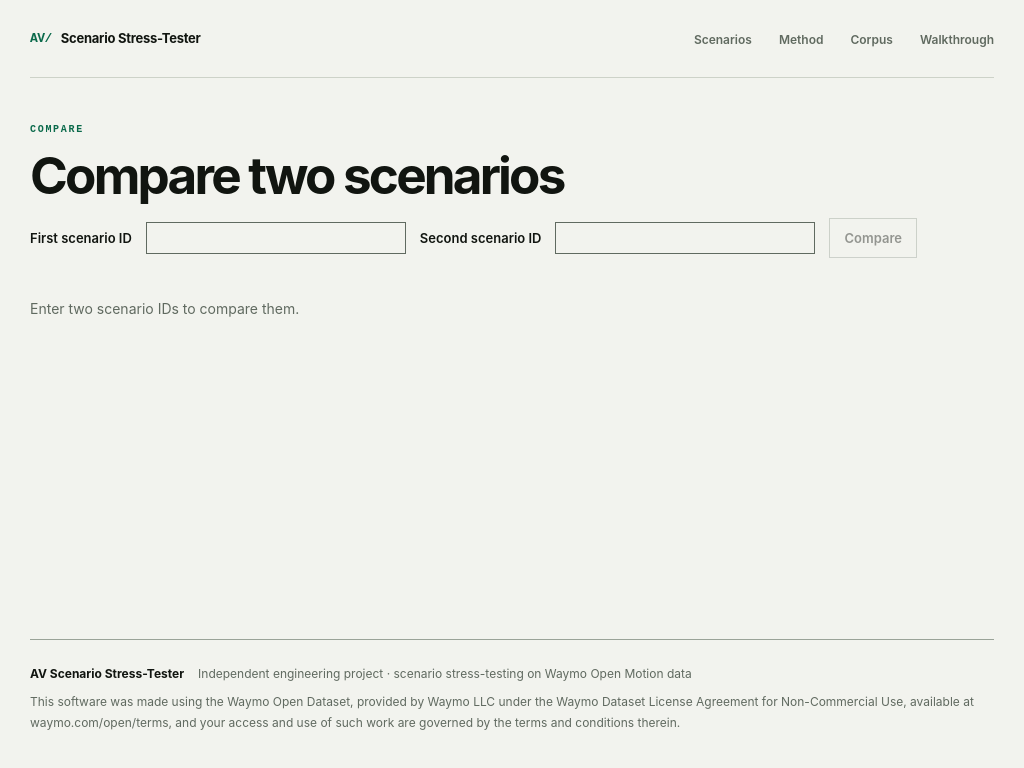
Test: the address and the fields › asks for two ids when there are none, and takes them into the address
Expected: the text "Enter two scenario IDs to compare them." is shown, x1=30 y1=300 x2=299 y2=317
Expected: the button "Compare" is disabled, x1=830 y1=218 x2=917 y2=258
Type " sa " into the field labelled "First scenario ID".
click(276, 238); type(" sa ")  # box x1=146 y1=222 x2=406 y2=254
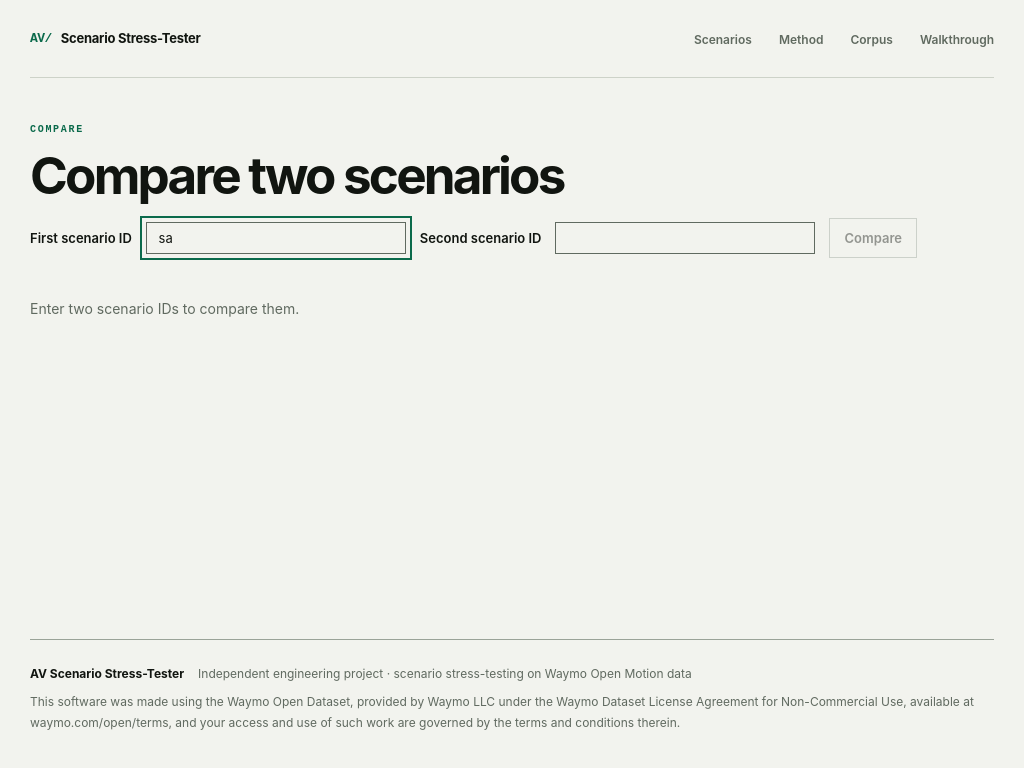
Expected: the button "Compare" is disabled, x1=830 y1=218 x2=917 y2=258
Type "sb" into the field labelled "Second scenario ID".
click(686, 238); type("sb")  # box x1=556 y1=222 x2=816 y2=254
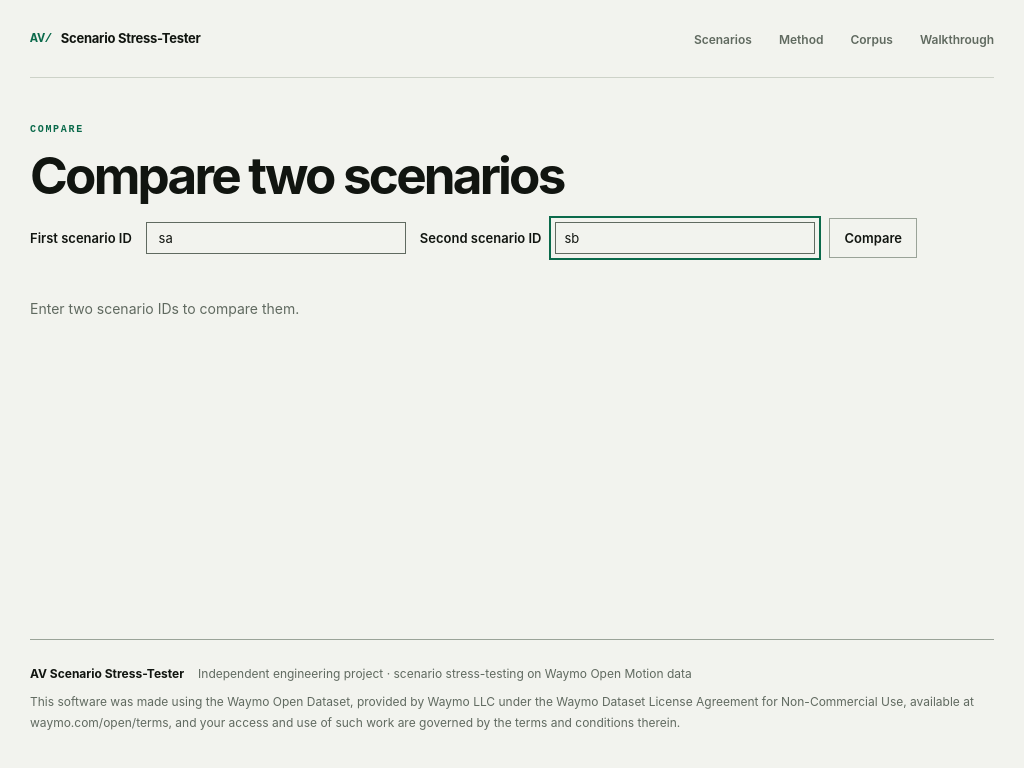
Result: the button "Compare" is enabled
Click the button "Compare".
click(873, 238)  # box x1=830 y1=218 x2=917 y2=258
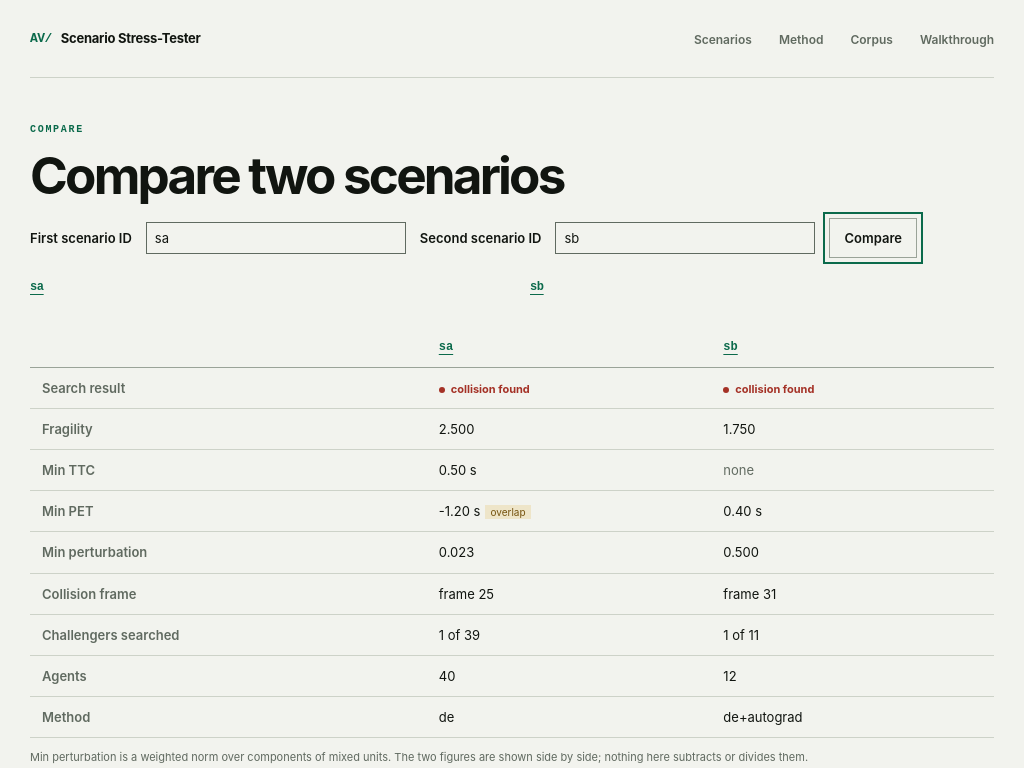
Result: the table named "Summary, side by side" is shown at x1=30 y1=325 x2=994 y2=738
